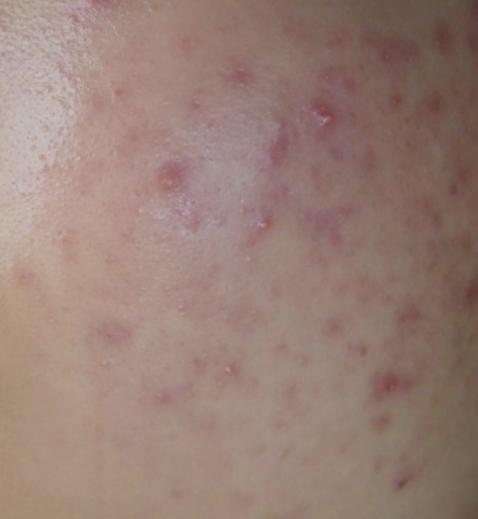papular: (151, 162, 197, 220), (362, 373, 406, 423), (251, 150, 294, 192)
purulent: (313, 94, 353, 162), (239, 212, 289, 253)
whitehead: (212, 351, 246, 399)
